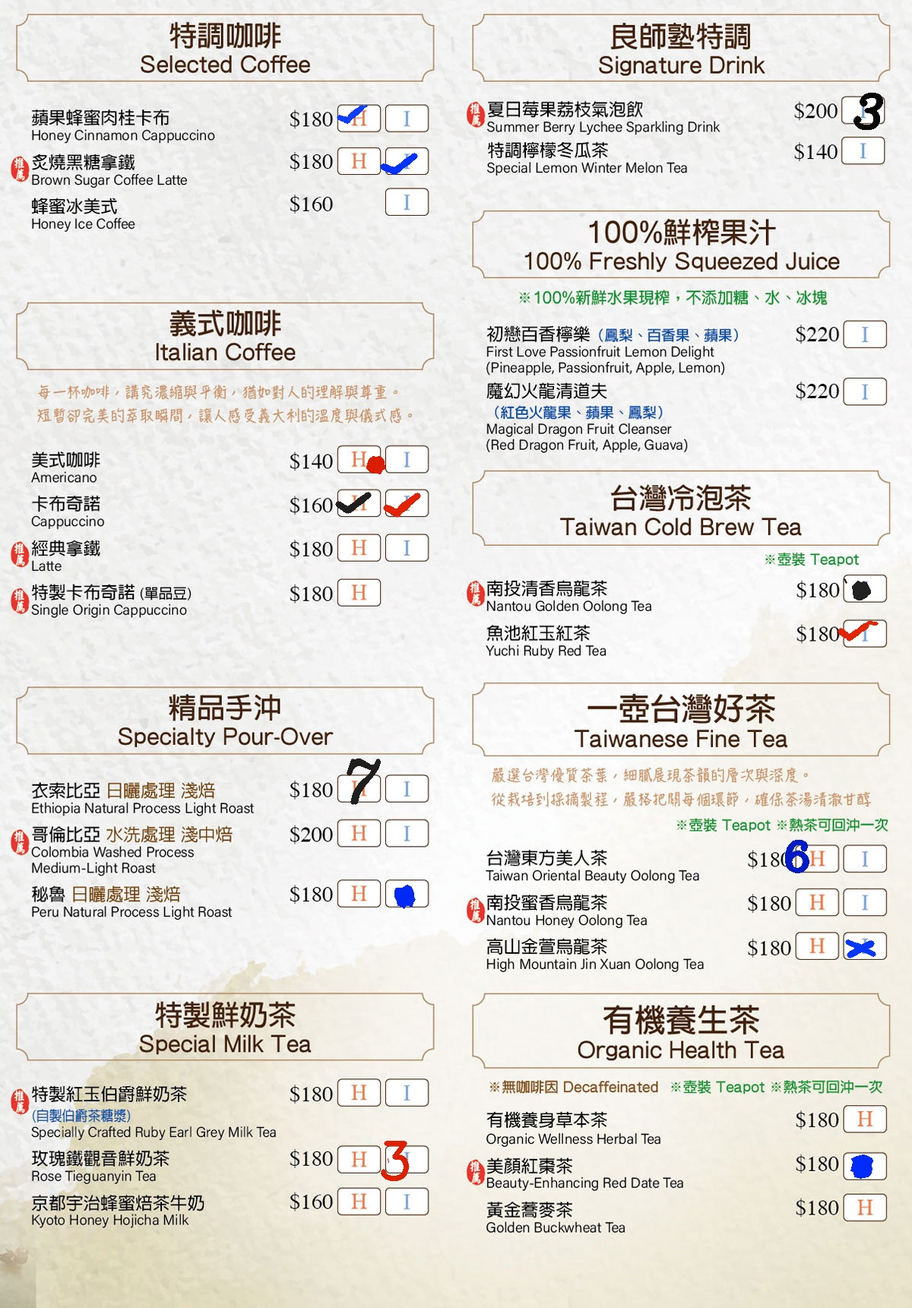marked_circle: (846, 1153, 885, 1177), (846, 576, 885, 600), (387, 881, 426, 904), (340, 447, 378, 470)
marked_number_3: (844, 98, 883, 122), (388, 1148, 426, 1171)
marked_number_6: (796, 845, 835, 869)
marked_number_7: (339, 776, 378, 800)
marked_tick: (845, 622, 884, 646), (389, 149, 428, 173), (339, 489, 378, 513), (388, 491, 426, 515), (339, 106, 378, 129)
marked_x: (844, 934, 883, 958)
